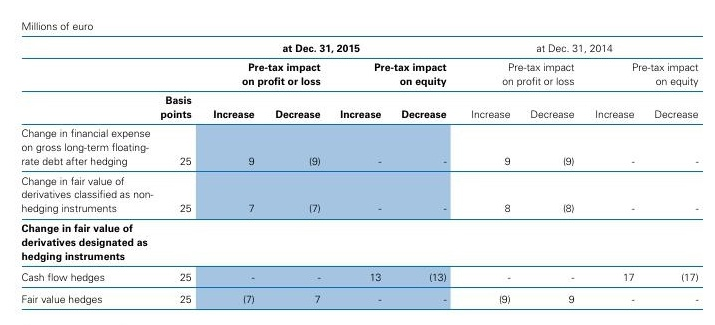table: (0, 0, 715, 325)
